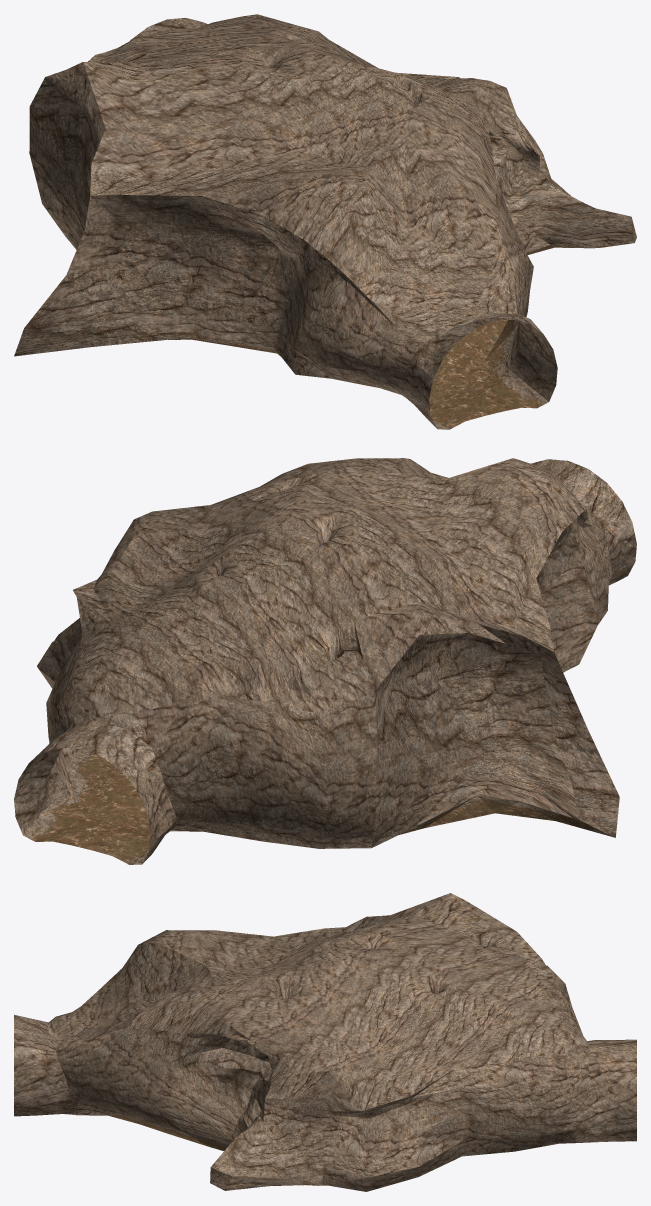
File: CaveRoomPlatformOpen.obj
3 renders of one model, top to bottom at view 1: azimuth 30°, elevation 25°; view 2: azimuth 150°, elevation 25°; view 3: azimuth 270°, elevation 25°, orthographic. The views are drawn at different scales.
Visible parts, largest first — view 1: CaveRoomPlatformOpen; view 2: CaveRoomPlatformOpen; view 3: CaveRoomPlatformOpen.
Part boxes in pixels (x1,y1,x2,y2): CaveRoomPlatformOpen: (14, 14, 636, 429); CaveRoomPlatformOpen: (14, 458, 636, 864); CaveRoomPlatformOpen: (14, 893, 636, 1191).
Bounding box in the file's own units: 13.35 × 5.46 × 16.8.
